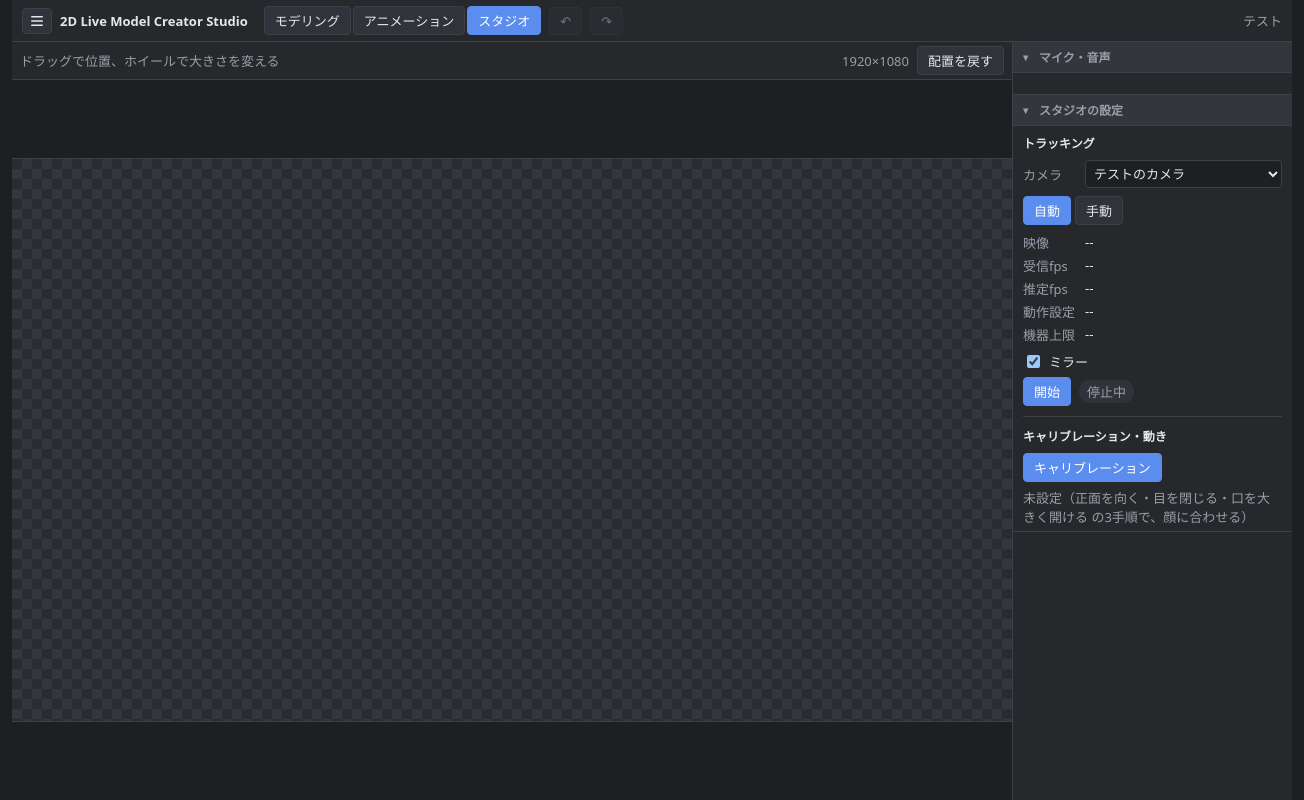
Test: スタジオの設定の「キャリブレーション・動き」 › カメラを開始できなければ知らせて、キャリブレーションを始めない
The image size is (1304, 800).
Step 1. Click the button "キャリブレーション" → (1092, 468), box top-left (1023, 453), bottom-right (1162, 482)
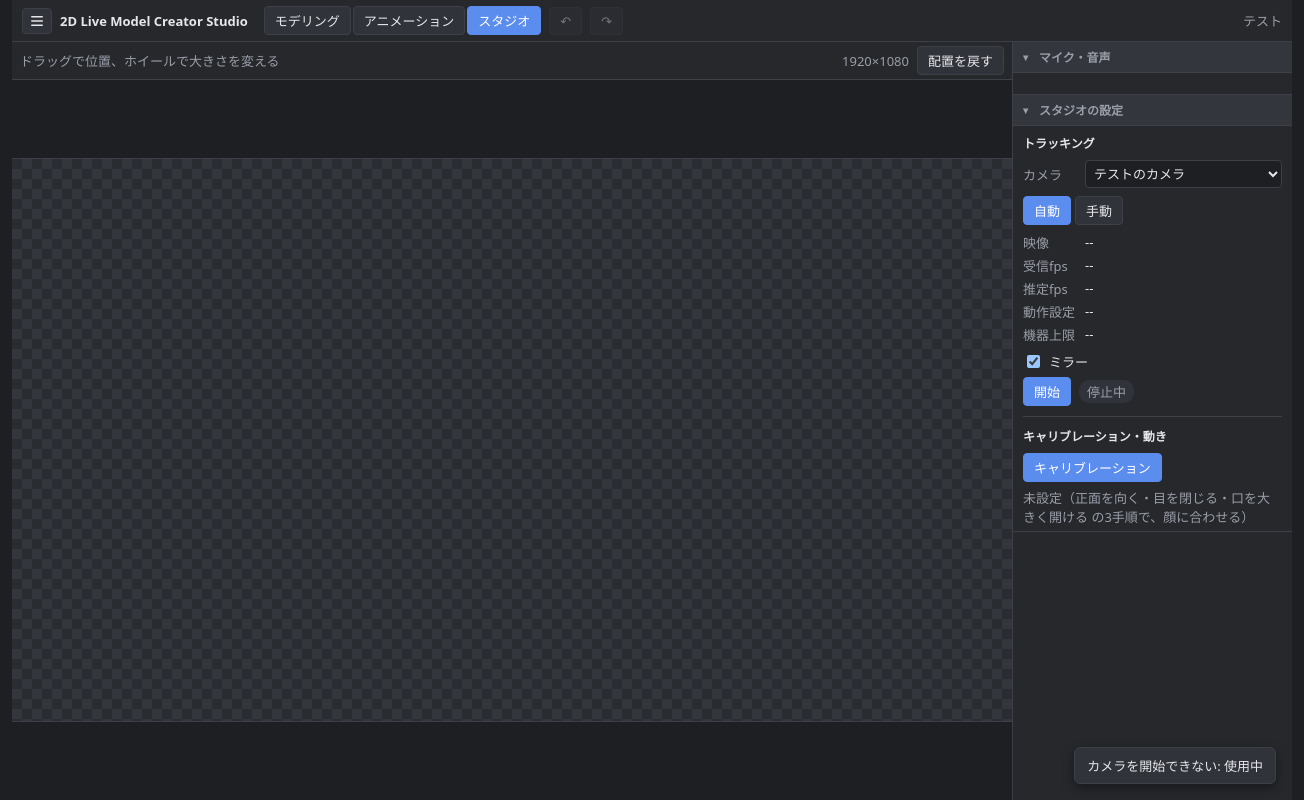
Expected: the text "カメラを開始できない: 使用中" is shown, top-left (1074, 747), bottom-right (1276, 784)
